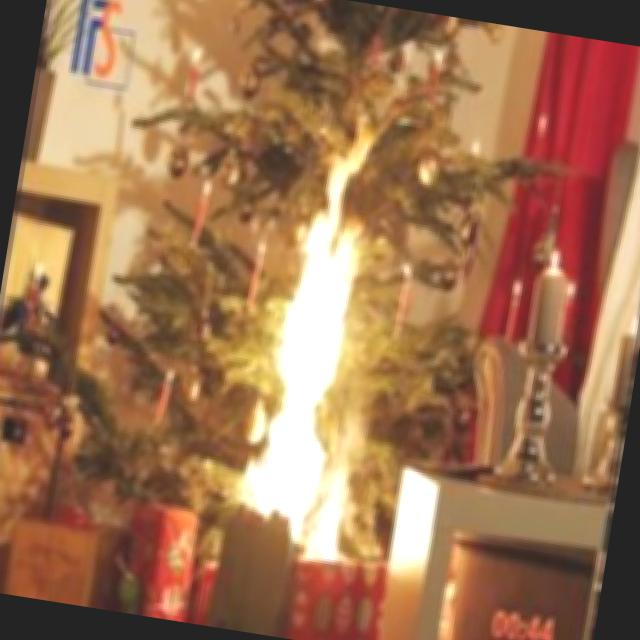fire: (220, 112, 424, 578)
